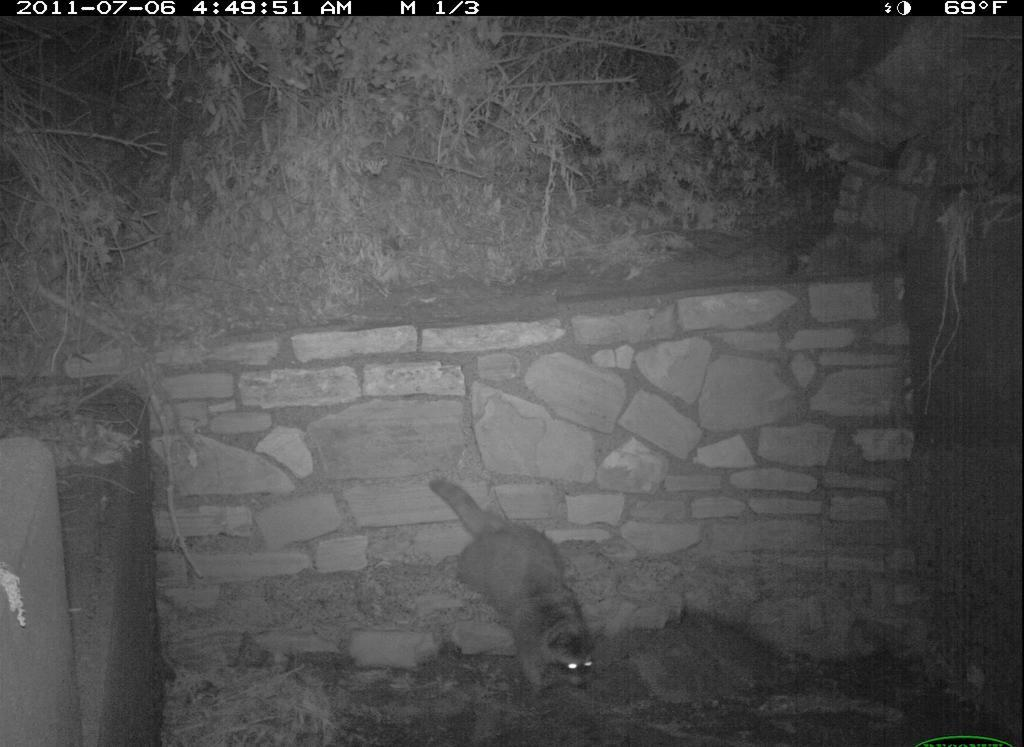raccoon: (420, 478, 626, 702)
